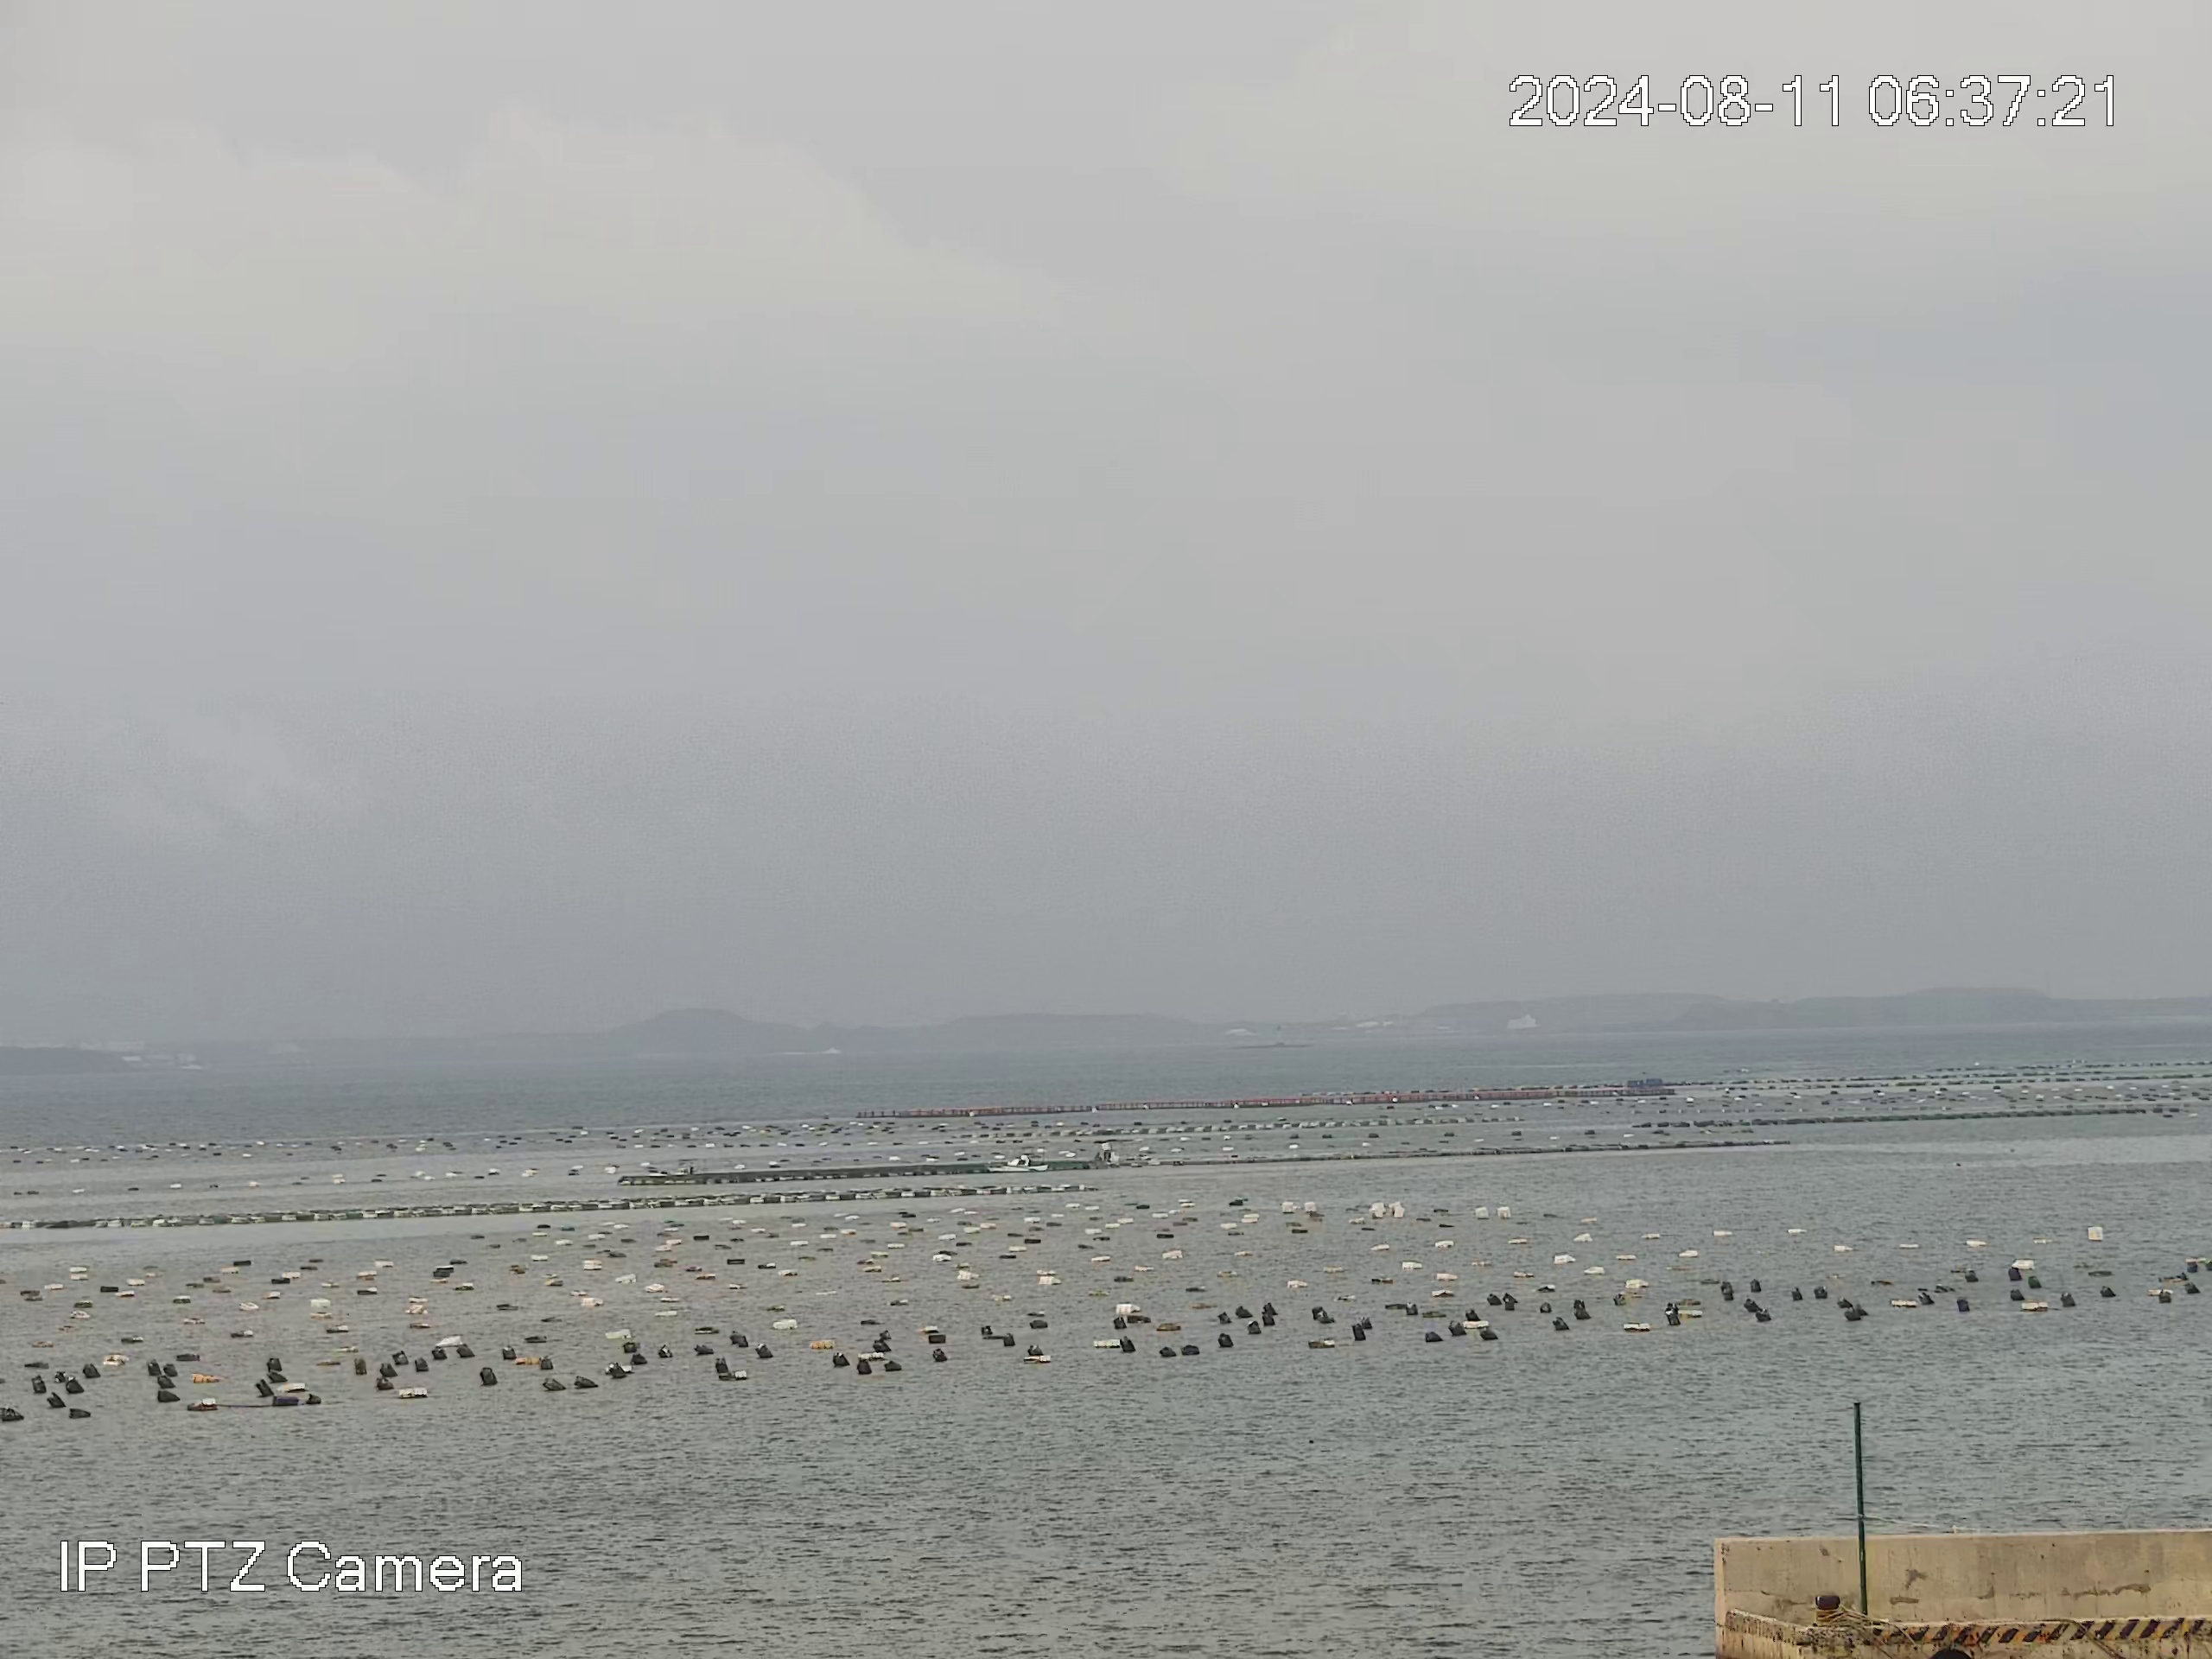boat: (985, 1153, 1049, 1175)
